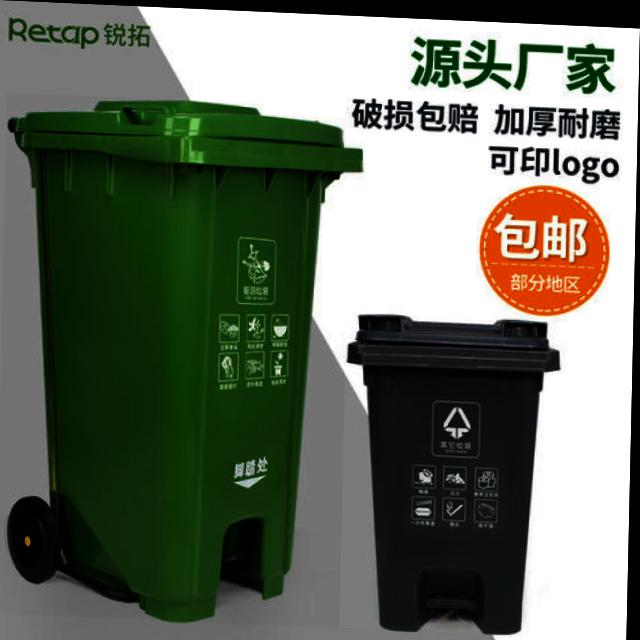garbage_bin: (0, 92, 364, 626), (342, 306, 561, 632)
